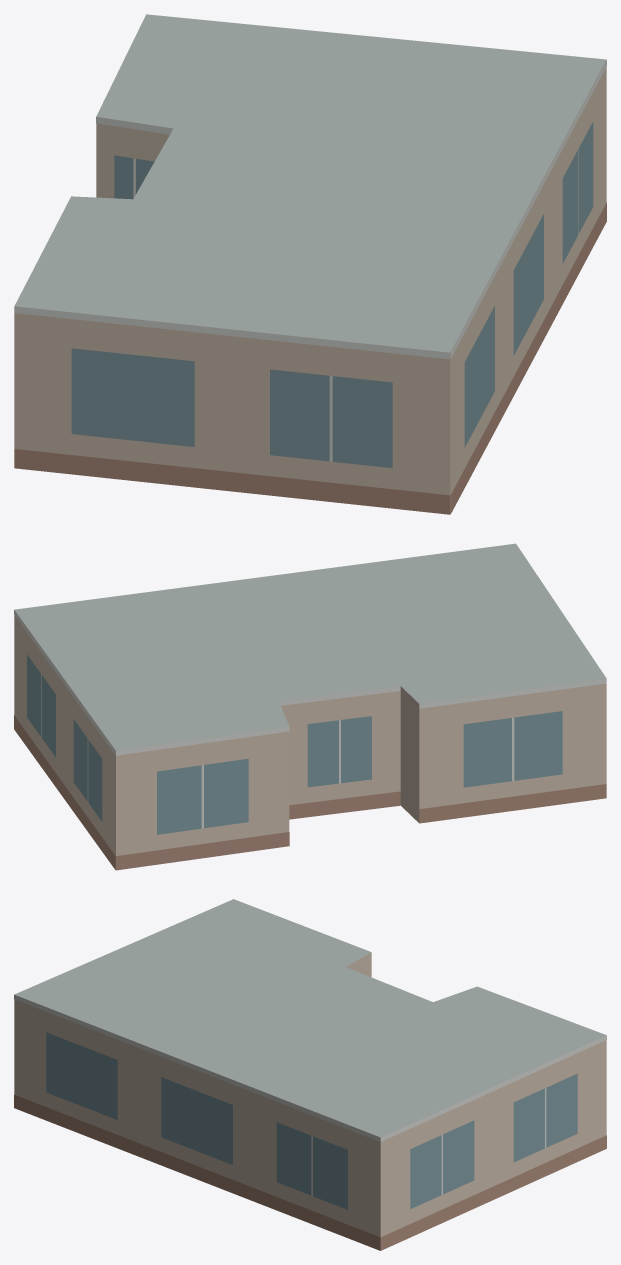
The model's file is survey-upis-32769686.glb.
3 views of the same model, one above another, from view 1: azimuth 30°, elevation 25°; view 2: azimuth 150°, elevation 25°; view 3: azimuth 270°, elevation 25° (orthographic). The views are drawn at different scales.
Visible parts, largest first — view 1: survey-upis-32769686.tmp; view 2: survey-upis-32769686.tmp; view 3: survey-upis-32769686.tmp.
Part boxes in pixels (x1,y1,x2,y2): survey-upis-32769686.tmp: [14, 14, 606, 514]; survey-upis-32769686.tmp: [14, 543, 606, 870]; survey-upis-32769686.tmp: [14, 899, 606, 1250].
Bounding box in the file's own units: 13.76 × 3.05 × 14.45.
